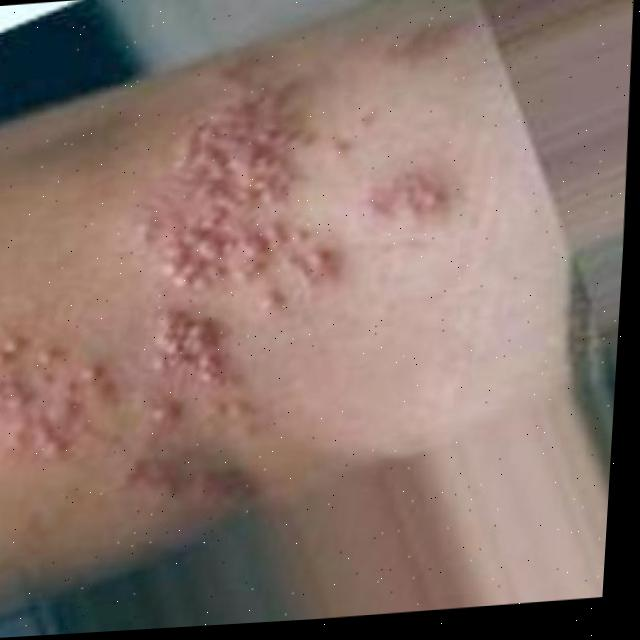Shingles: (123, 76, 350, 431), (0, 319, 110, 469), (361, 160, 457, 233)
